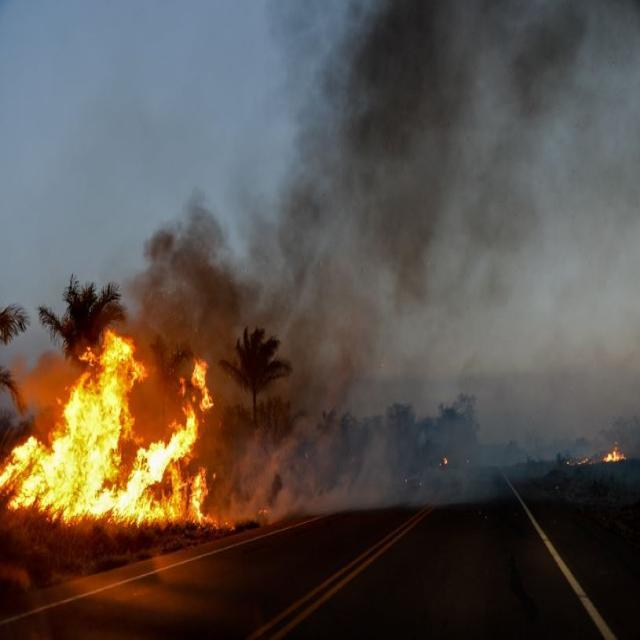Fire: (0, 330, 212, 522), (568, 444, 628, 468), (441, 456, 451, 466)
Smoke: (289, 0, 640, 213), (214, 217, 396, 523), (397, 217, 530, 310), (127, 228, 213, 328)
